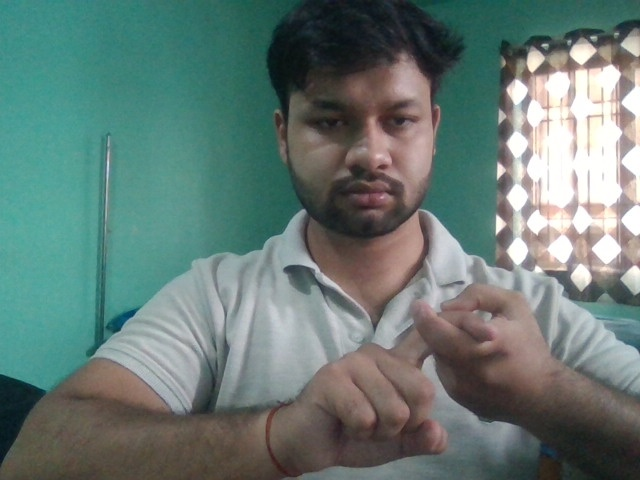Friend: (284, 277, 572, 475)
